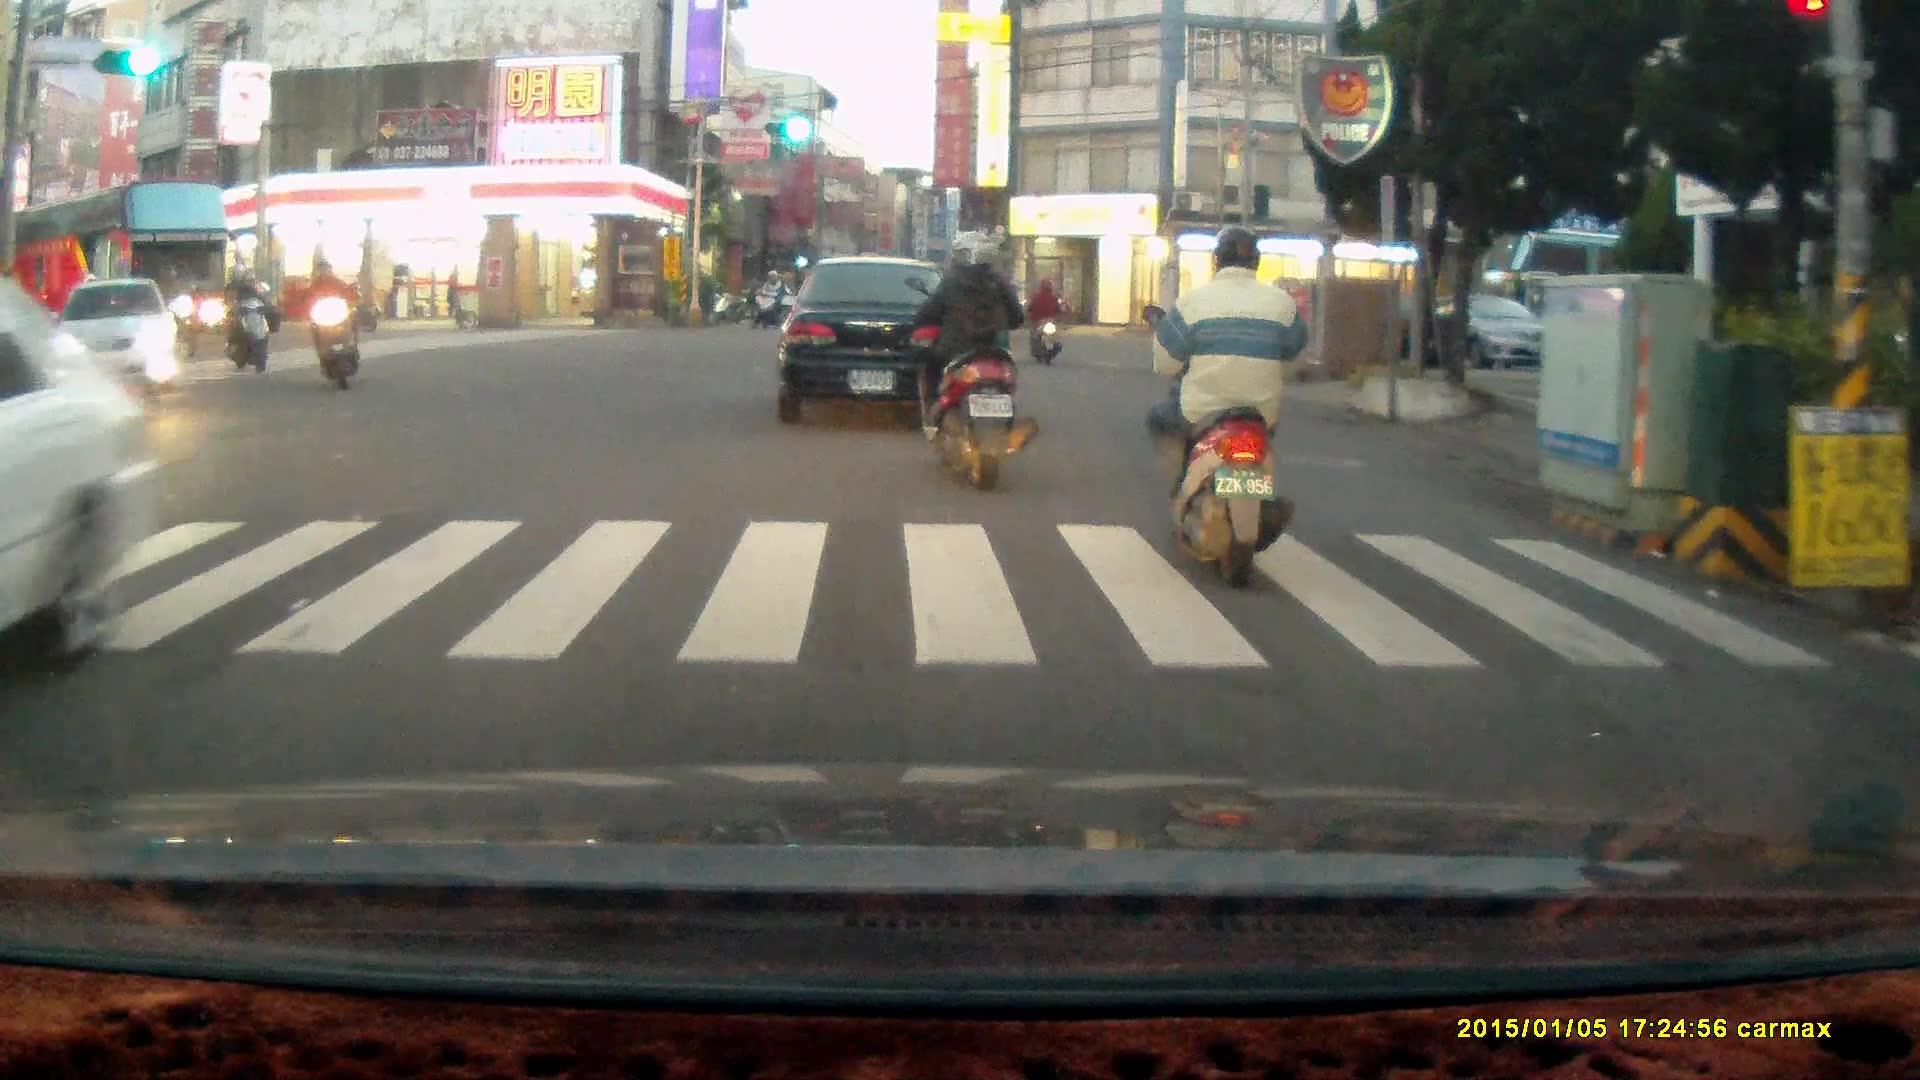rider: (1139, 226, 1296, 587), (902, 225, 1041, 493), (303, 257, 362, 395), (215, 264, 272, 380), (1024, 274, 1064, 366), (752, 268, 783, 330)
vehicle: (1, 264, 164, 700), (6, 184, 233, 354), (44, 278, 179, 399), (1383, 286, 1569, 373)
